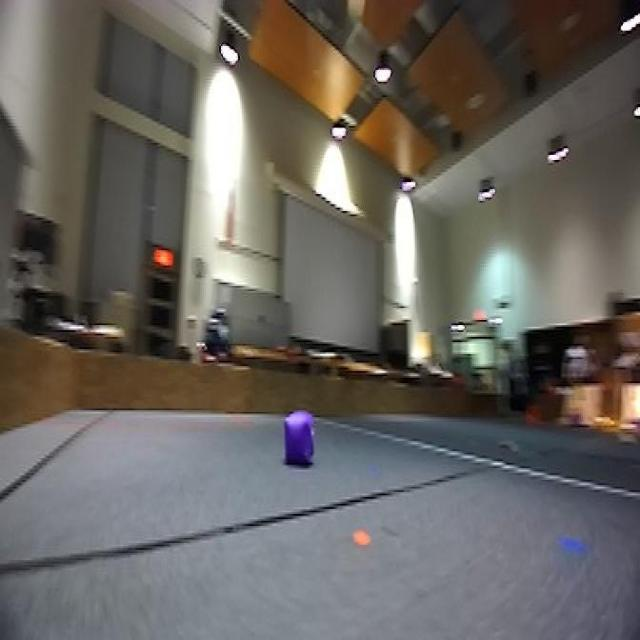frc_cube: (282, 408, 318, 470)
